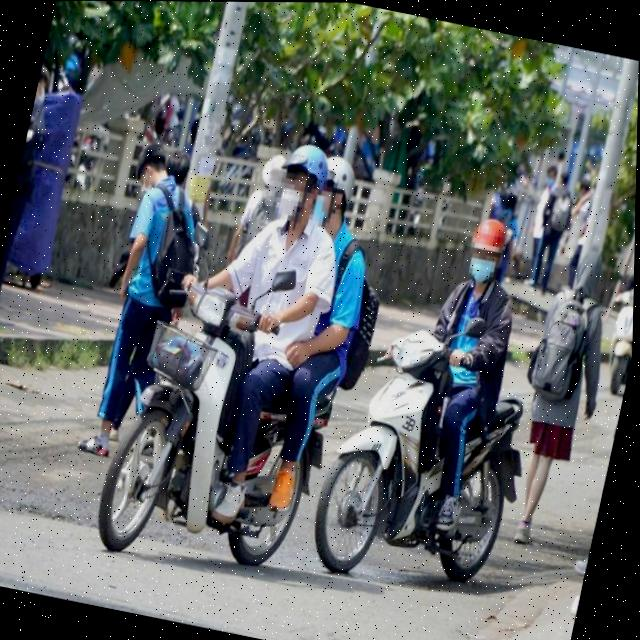motorcycle: (71, 242, 360, 593), (306, 288, 552, 608)
